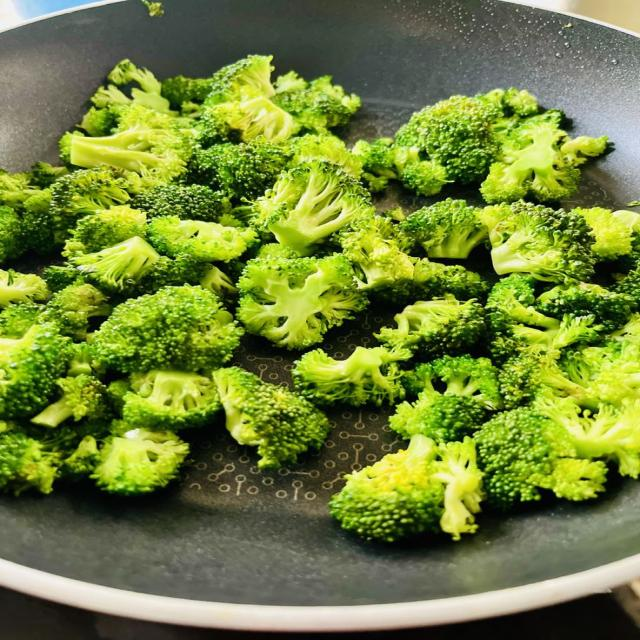broccoli: (330, 435, 482, 542), (474, 408, 606, 509), (92, 286, 242, 372), (65, 208, 206, 294), (237, 255, 366, 349), (330, 436, 444, 542), (213, 367, 329, 468), (255, 161, 374, 255), (70, 105, 195, 191), (480, 117, 606, 202), (486, 274, 601, 359), (480, 201, 594, 281), (396, 96, 500, 183), (534, 395, 639, 478), (91, 423, 188, 495), (293, 347, 412, 405), (375, 295, 485, 357), (0, 324, 68, 418), (188, 140, 291, 202), (47, 167, 130, 242), (123, 370, 219, 431), (338, 216, 415, 289), (430, 438, 484, 540), (353, 139, 451, 195), (403, 355, 502, 410), (561, 341, 639, 410), (500, 348, 588, 409), (273, 72, 360, 133), (373, 259, 490, 304), (400, 199, 487, 258), (148, 216, 256, 262), (70, 236, 160, 291), (389, 391, 485, 442), (197, 97, 296, 146), (536, 283, 633, 332), (92, 60, 175, 115), (63, 205, 146, 258), (39, 283, 111, 339), (32, 374, 108, 427), (0, 430, 59, 495), (131, 184, 231, 221), (204, 55, 274, 105), (287, 134, 362, 178), (573, 207, 633, 260), (132, 255, 207, 294), (394, 146, 451, 195), (353, 138, 398, 191), (20, 188, 53, 255), (0, 270, 50, 308), (476, 88, 539, 118), (0, 205, 29, 264), (0, 169, 41, 210), (60, 436, 99, 479), (161, 76, 212, 108), (0, 303, 43, 337), (78, 103, 122, 136), (560, 136, 607, 165), (200, 265, 238, 300), (67, 342, 105, 376), (41, 264, 83, 292), (614, 264, 639, 310), (59, 130, 85, 170), (31, 162, 67, 189), (610, 313, 639, 343), (142, 0, 164, 17)
